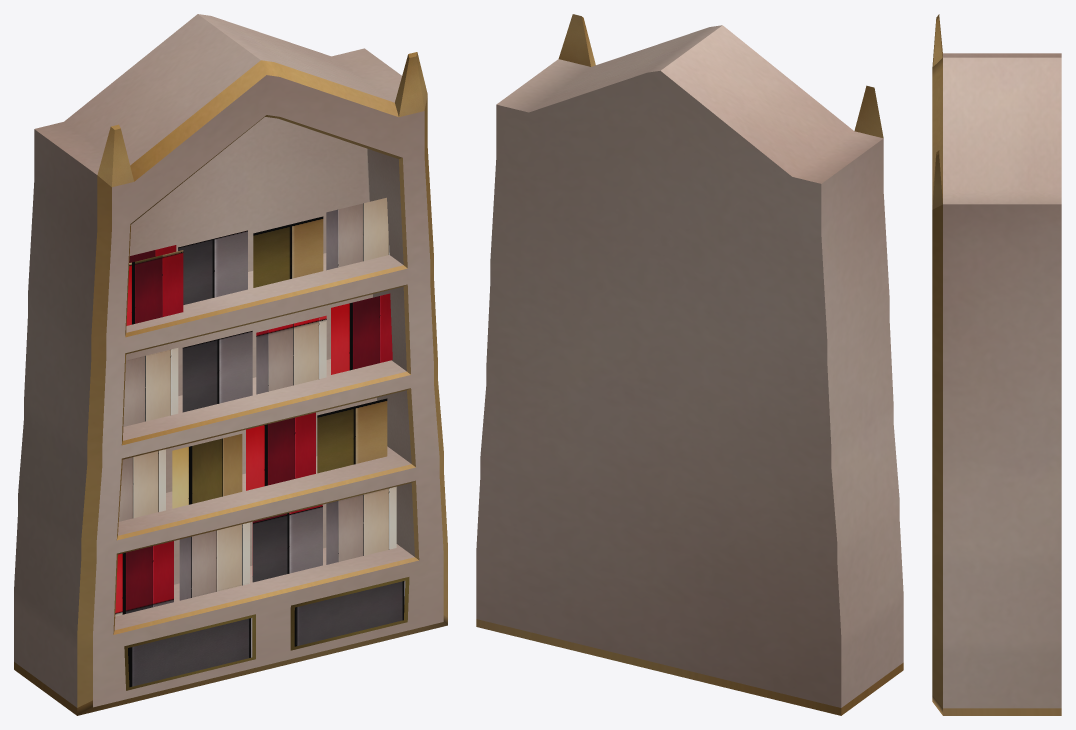
Rendered from SM_library_bookshelf_03.fbx.
3 renders of one model, left to right at view 1: azimuth 30°, elevation 25°; view 2: azimuth 150°, elevation 25°; view 3: azimuth 270°, elevation 25°, orthographic. The views are drawn at different scales.
Parts seen in each view (by area): view 1: SM_library_bookshelf_03; view 2: SM_library_bookshelf_03; view 3: SM_library_bookshelf_03.
Part boxes in pixels (box(x1,y1,x2,y2)): SM_library_bookshelf_03: box(14, 14, 447, 715); SM_library_bookshelf_03: box(476, 14, 903, 715); SM_library_bookshelf_03: box(932, 14, 1061, 715).
Size of the model in its own units: 2.1 by 3.31 by 0.6762.
